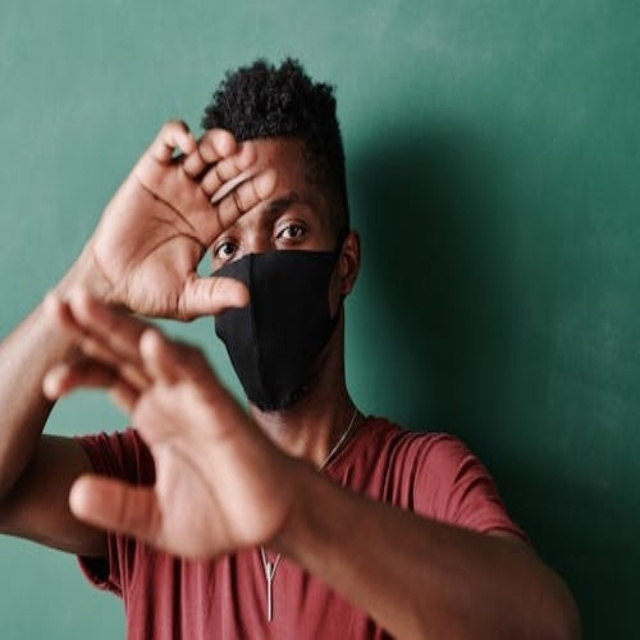Mascara: (209, 246, 345, 411)
Sin_gafas: (209, 198, 328, 269)
Sin_guantes: (51, 298, 294, 567), (78, 114, 259, 329)
